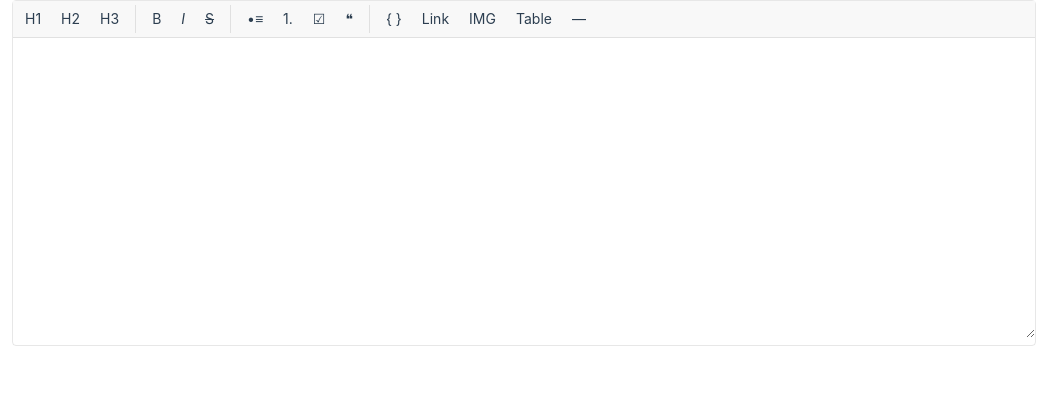
it: source editor (05-3) › [ [ 补全：输入触发浮层，点击选中项插入 wikilink
Type "[ [Hel" into the text box with test id "md-source". click: (524, 188)
box: x1=13 y1=38 x2=1035 y2=338
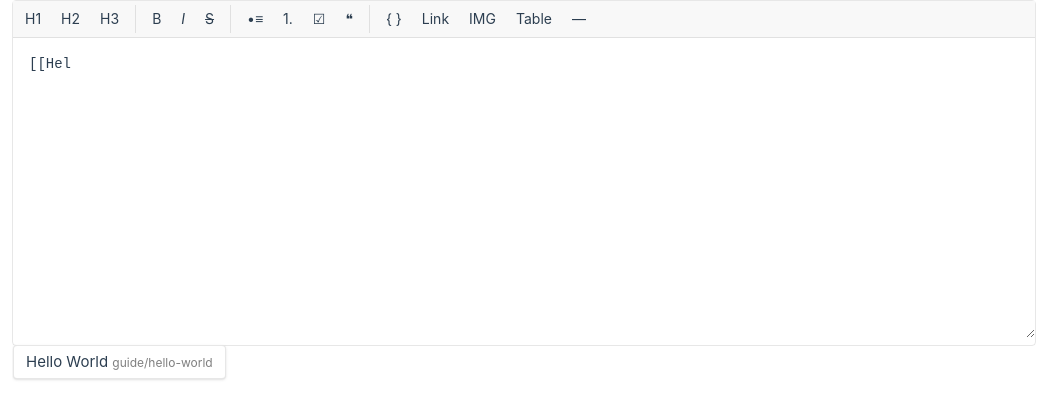
Check: the list with test id "wikilink-suggest" is shown, box x1=13 y1=345 x2=226 y2=379
Press the mouse on the list item with test id "suggest-item" at (119, 362), box x1=26 y1=352 x2=213 y2=371
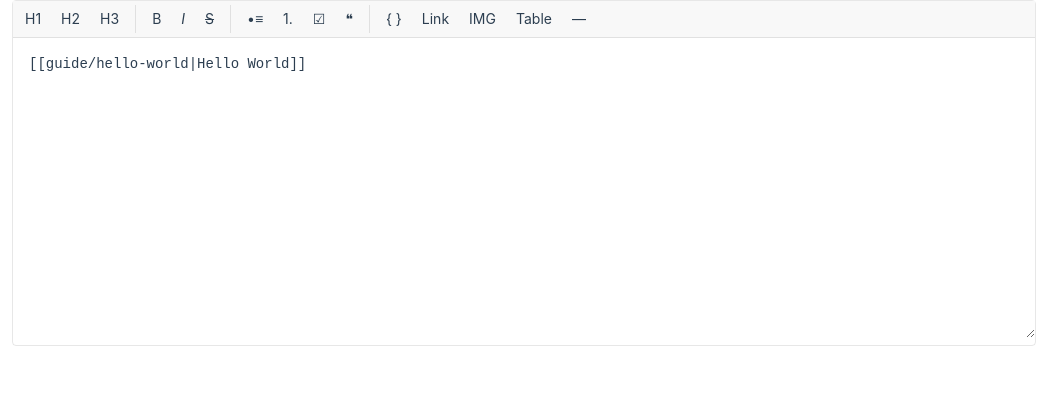
Check: the text box with test id "md-source" holds "[ [guide/hello-world|Hello World]] "
